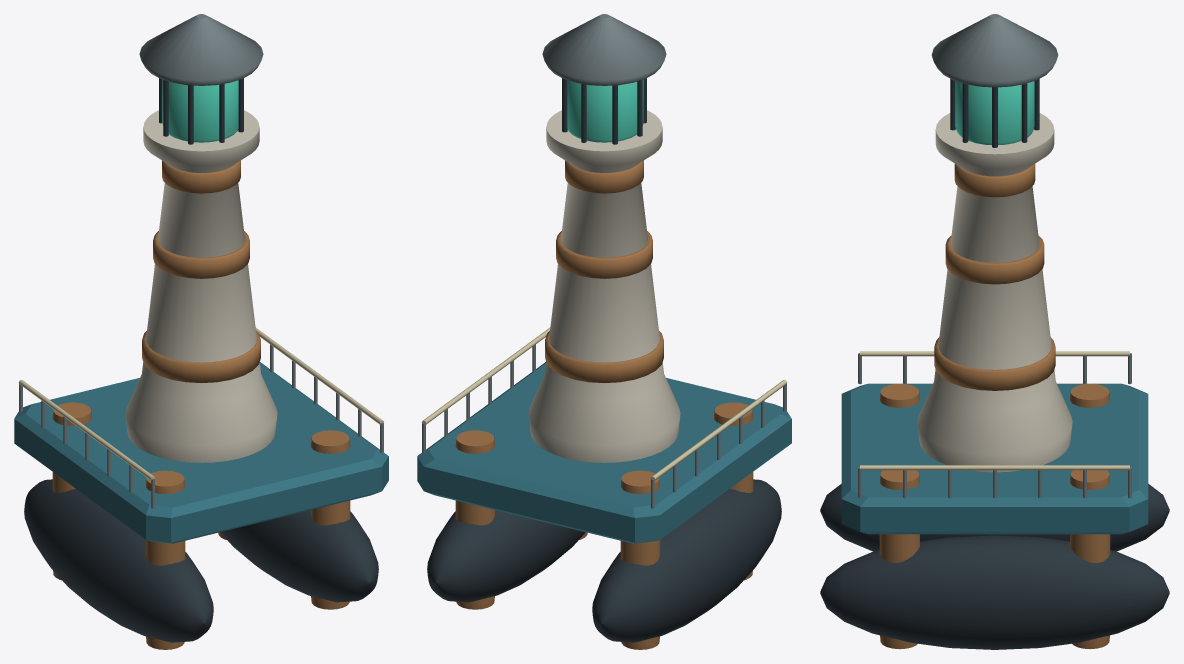
The model's file is thalassa_lighthouse.glb.
3 renders of one model, left to right at view 1: azimuth 30°, elevation 25°; view 2: azimuth 150°, elevation 25°; view 3: azimuth 270°, elevation 25°, orthographic. The views are drawn at different scales.
Visible parts, largest first — view 1: thalassa_lighthouse; view 2: thalassa_lighthouse; view 3: thalassa_lighthouse.
Part boxes in pixels (bbox=[...]): thalassa_lighthouse: bbox=[14, 14, 388, 649]; thalassa_lighthouse: bbox=[417, 14, 791, 649]; thalassa_lighthouse: bbox=[820, 14, 1169, 649].
Bounding box in the file's own units: 14.32 × 31.8 × 17.1.
